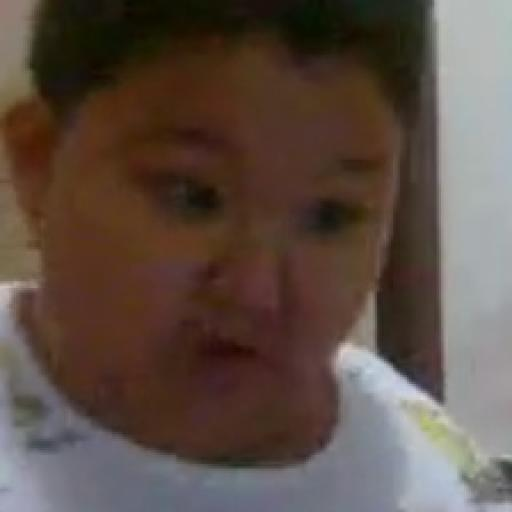Autism: (27, 24, 445, 460)
